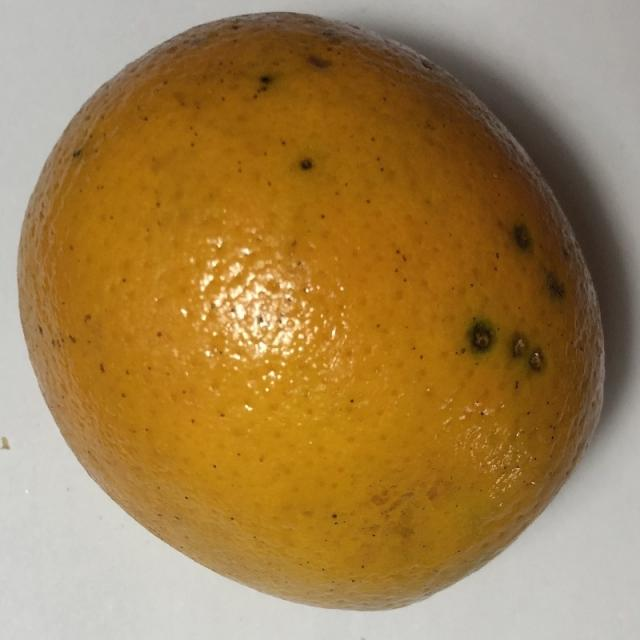blackspot: (10, 16, 628, 626)
